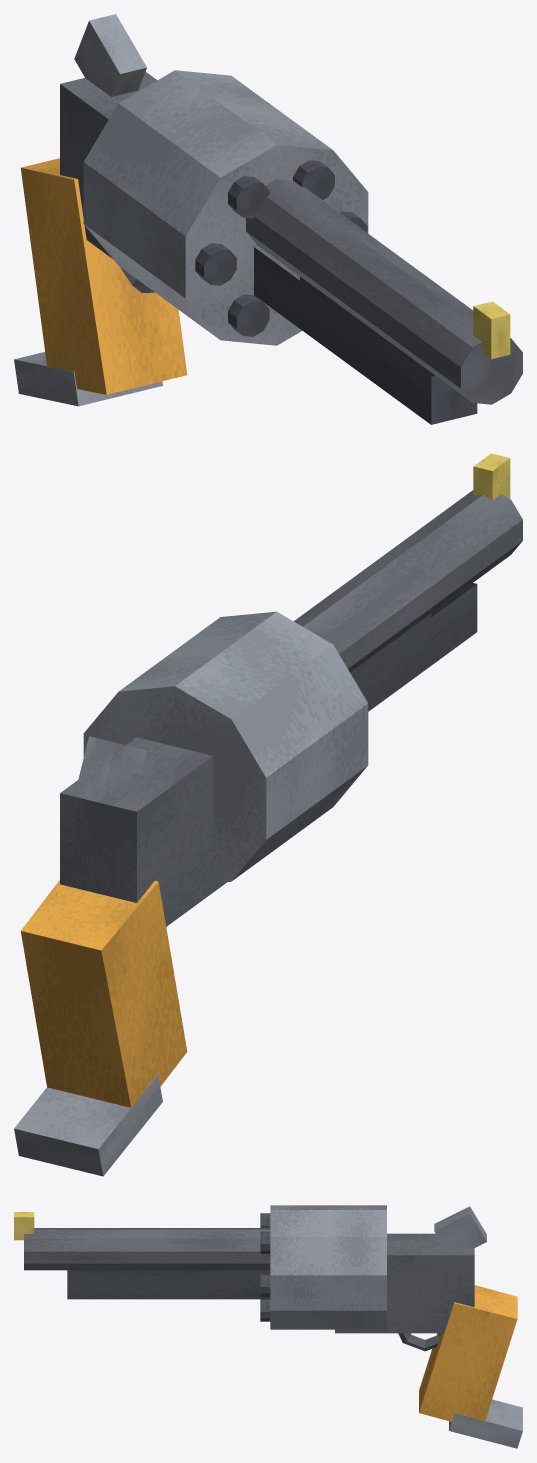
Rendered from weapon_revolver.glb.
3 renders of one model, top to bottom at view 1: azimuth 30°, elevation 25°; view 2: azimuth 150°, elevation 25°; view 3: azimuth 270°, elevation 25°, orthographic. The views are drawn at different scales.
Visible parts, largest first — view 1: weapon_revolver; view 2: weapon_revolver; view 3: weapon_revolver.
Part boxes in pixels (bbox=[...]): weapon_revolver: bbox=[14, 14, 522, 424]; weapon_revolver: bbox=[14, 453, 522, 1176]; weapon_revolver: bbox=[14, 1205, 522, 1448].
Size of the model in its own units: 0.4755 by 0.9871 by 2.01.
1 material, 1 textured.
